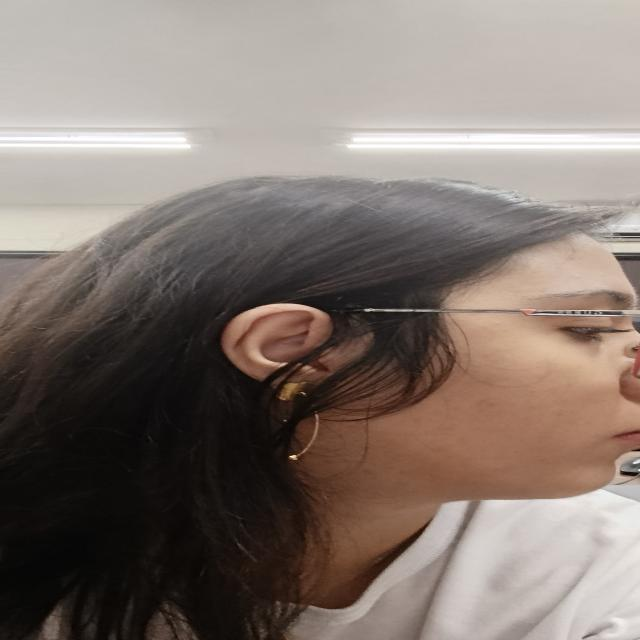sem_oculos: (342, 308, 640, 318)
